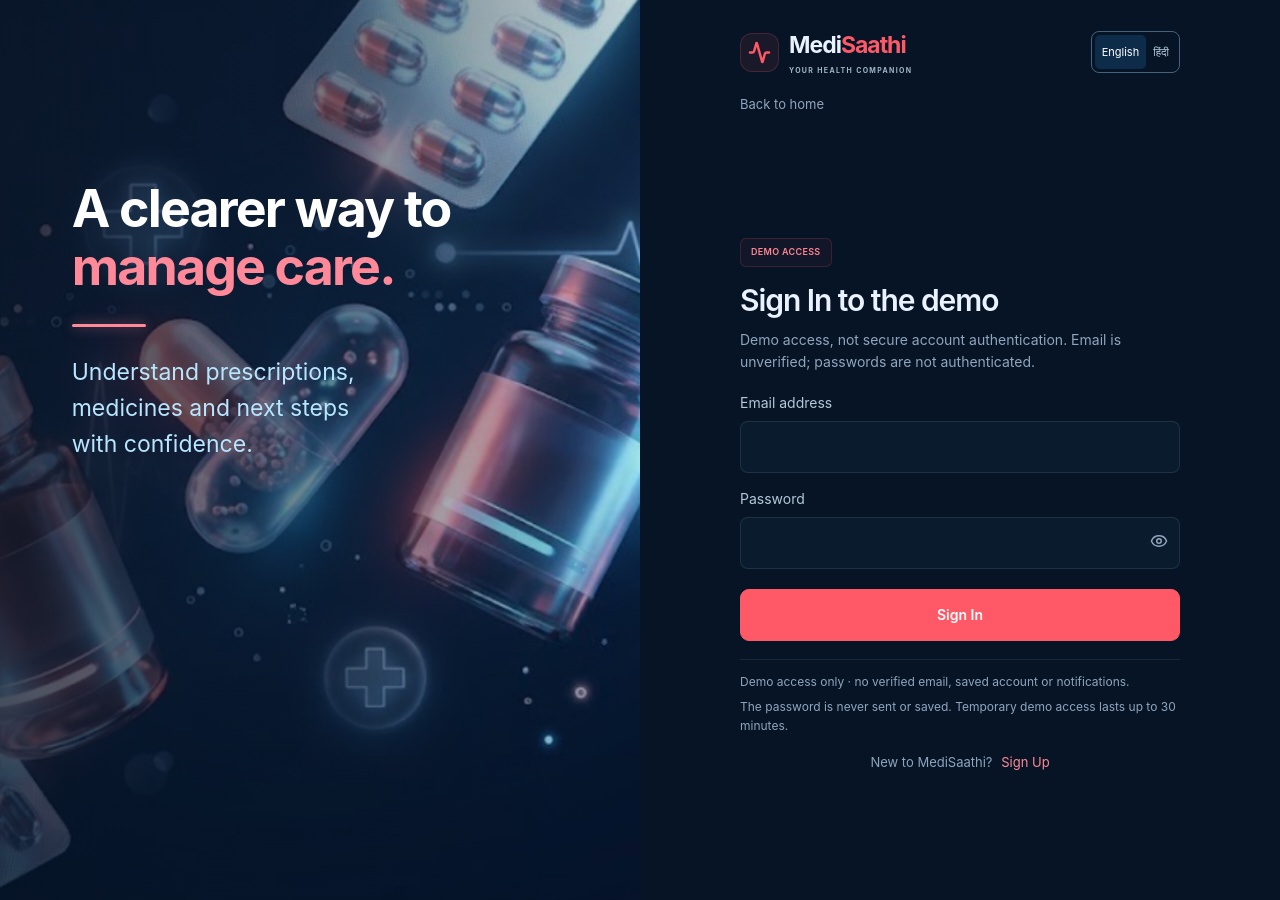
Test: validates fictional fields and does not create an unverified identity
Click the button "Sign In".
click(960, 615)  # box 740,589 -> 1180,641
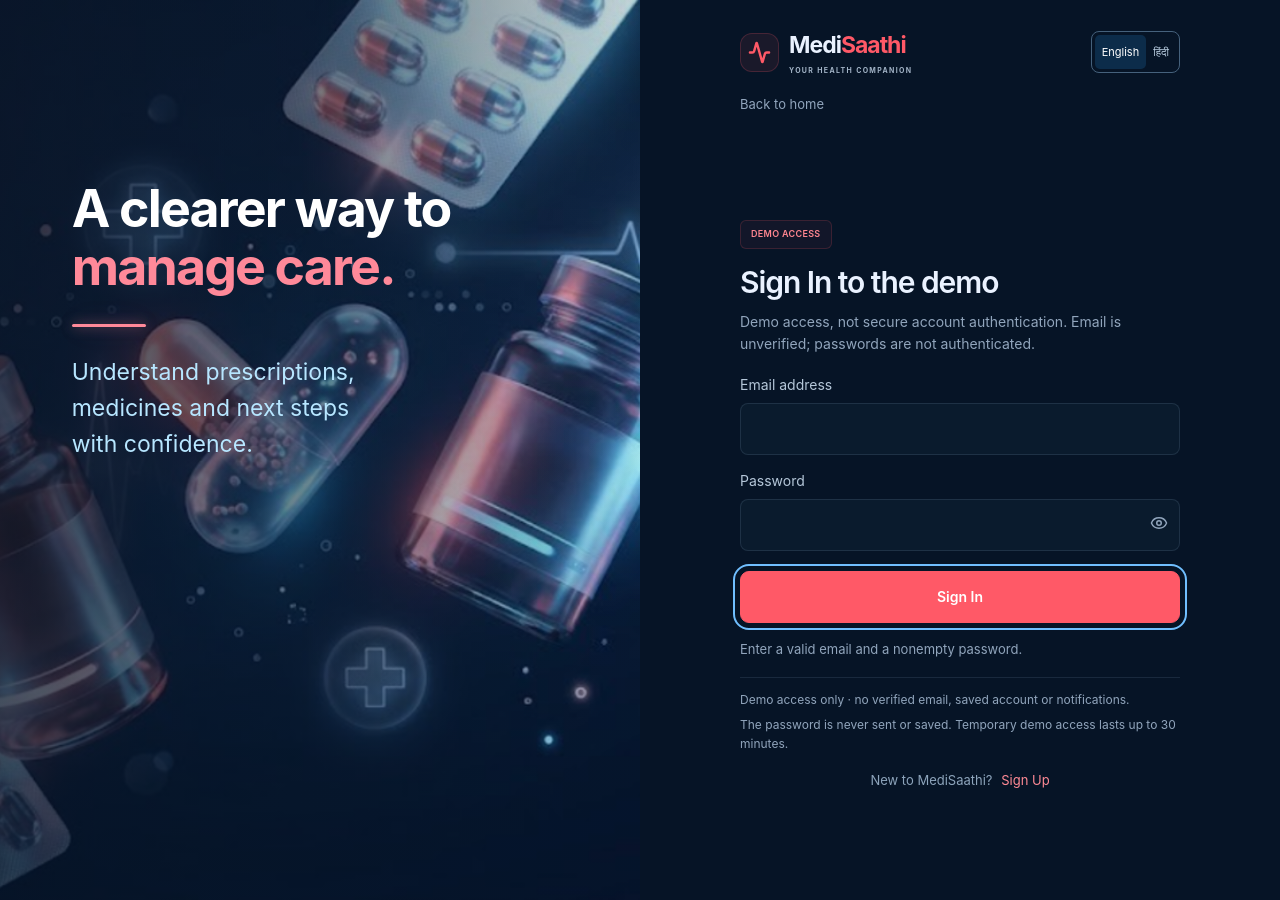
Expected: the text "not secure account authentication" is shown, 740,313 -> 1121,352
Result: the message shows "valid email" at 740,641 -> 1022,657
